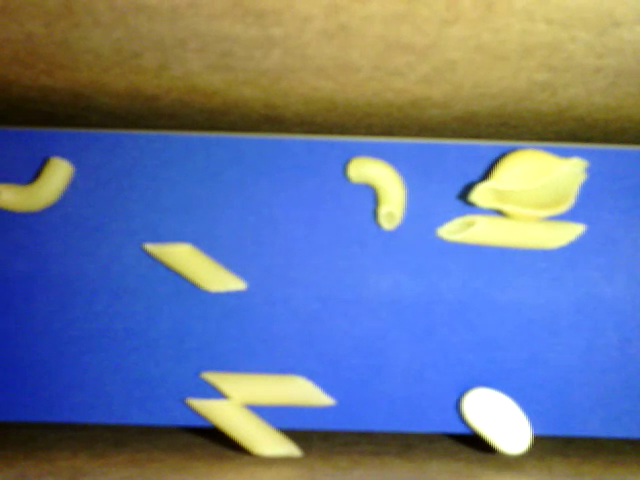elbow: (346, 156, 406, 231), (1, 157, 75, 211)
penne: (186, 398, 301, 456), (142, 241, 248, 294), (435, 214, 585, 249), (200, 371, 337, 405)
shell: (469, 148, 588, 219)
